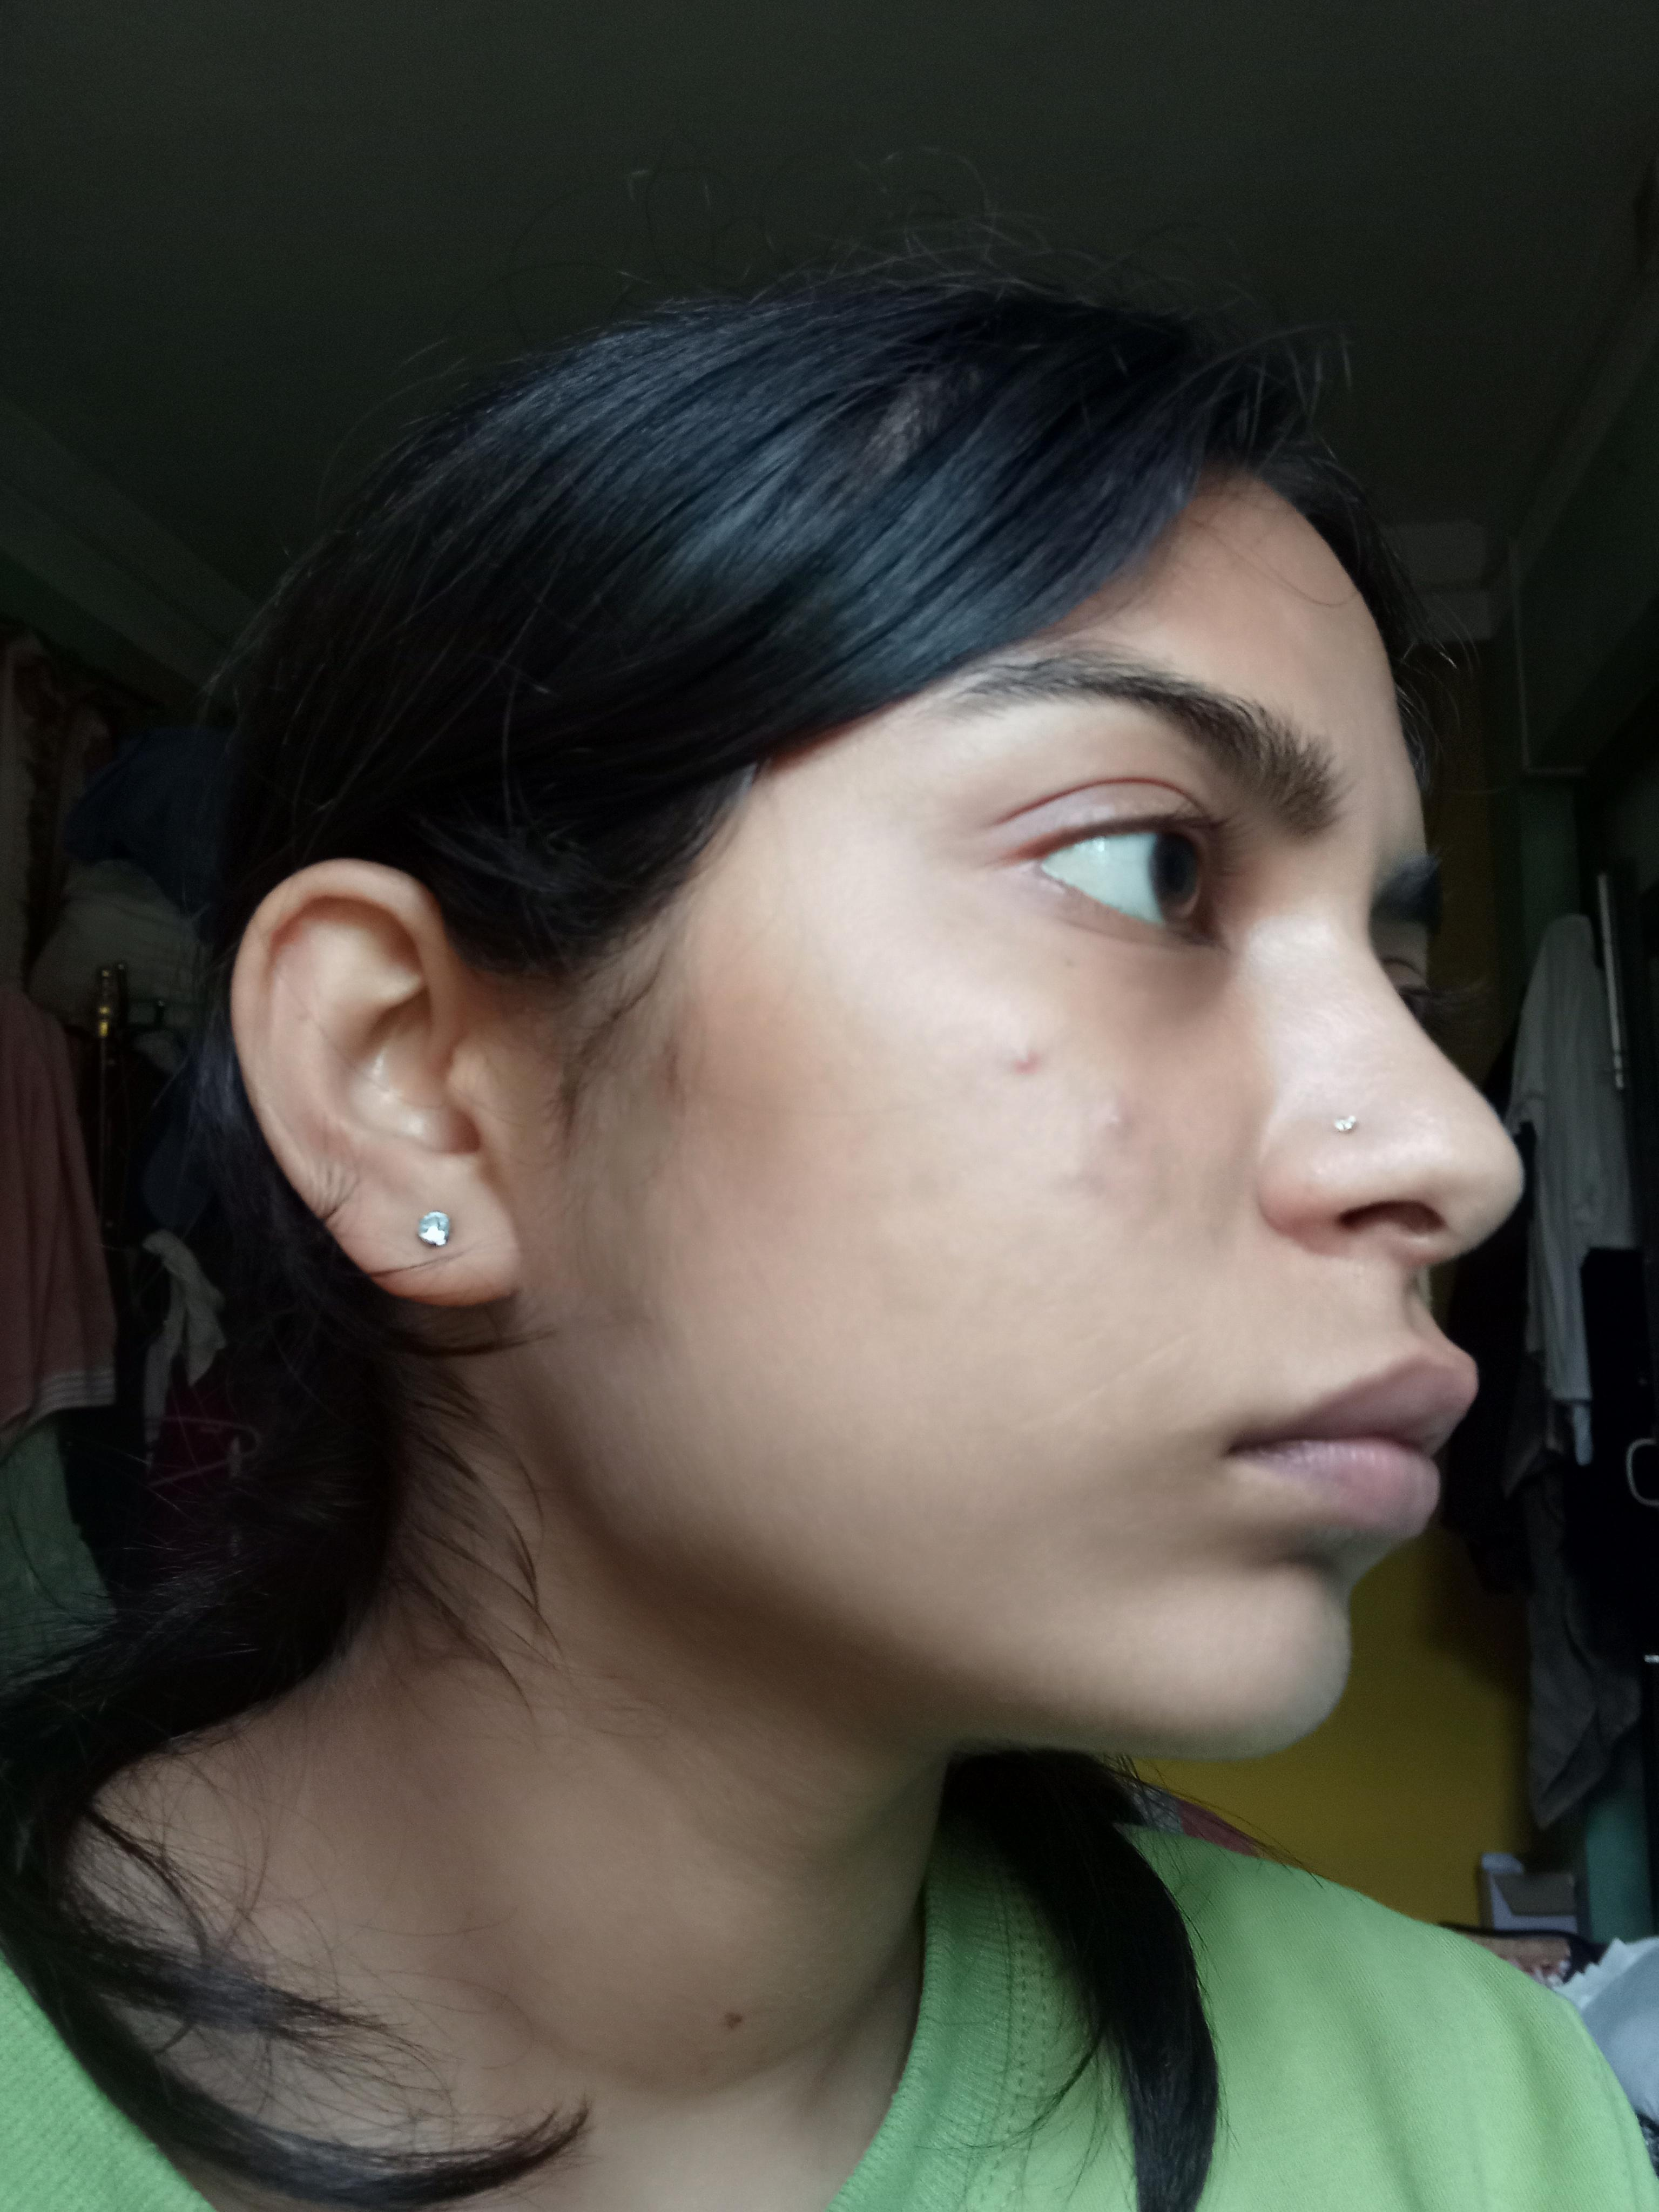Acne: (1089, 1094, 1140, 1139), (997, 1035, 1042, 1080), (1047, 1153, 1100, 1191)
Wrinkles: (1019, 1322, 1190, 1442)
